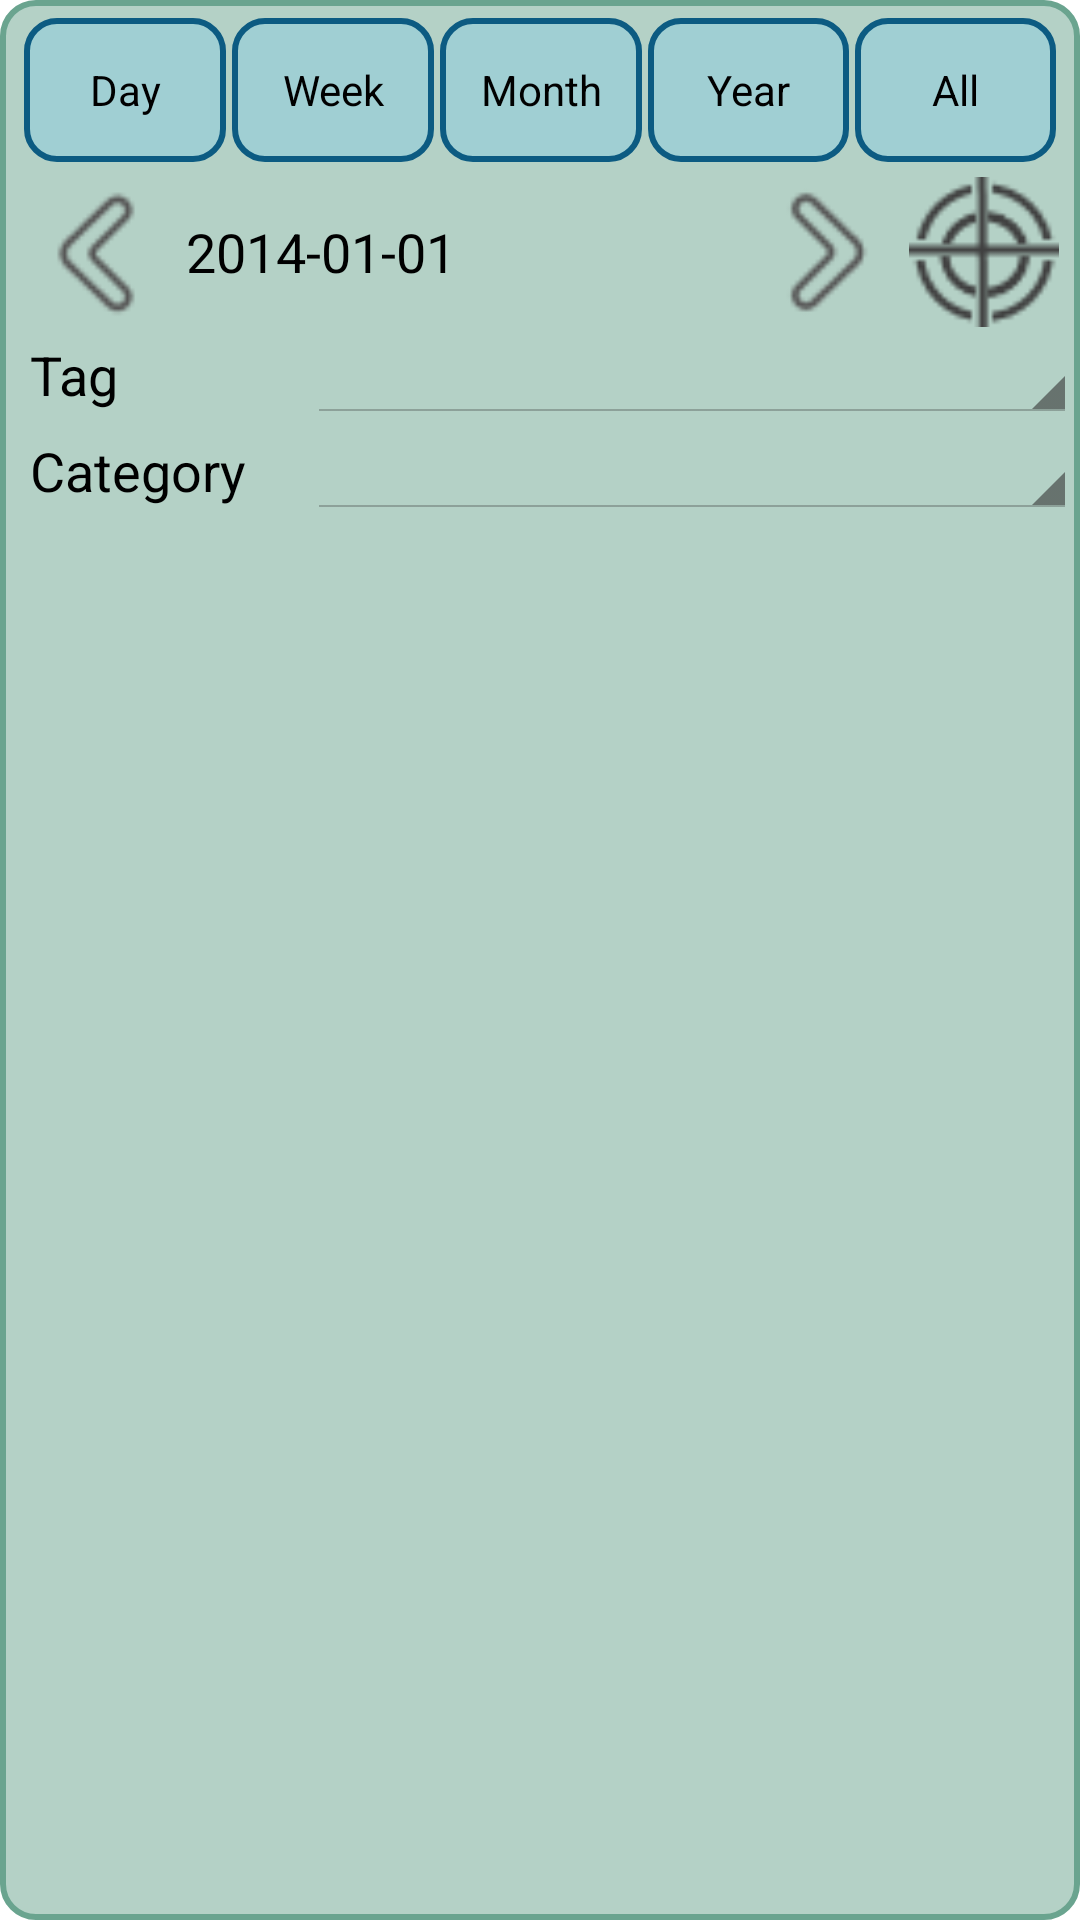

Screen size 1080w x 1920h. Icon name, then its center in pixels as (x,y):
+1 Day: (827,252)
-1 Day: (96,253)
Now: (984,252)
